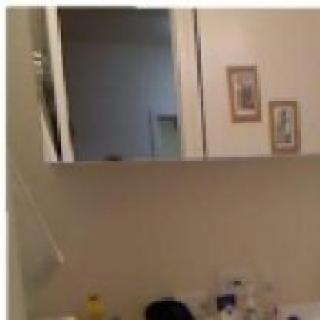smoke: (142, 293, 320, 320)
